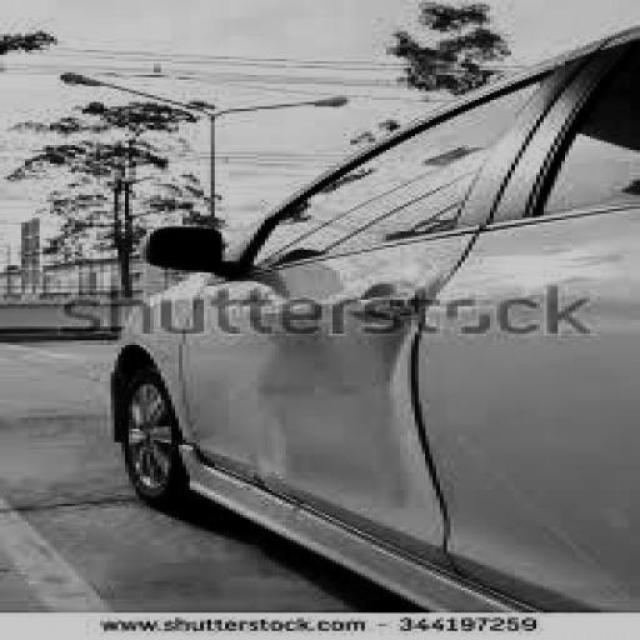car damage: (249, 290, 428, 522)
